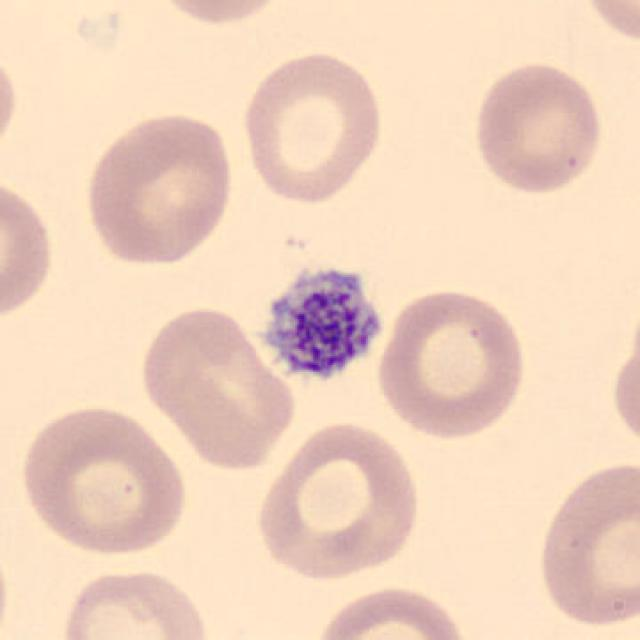Platelets: (254, 259, 388, 390)
RBC: (249, 418, 427, 583), (133, 300, 299, 474), (14, 400, 192, 559), (80, 106, 238, 270), (374, 282, 532, 443), (236, 46, 388, 206), (468, 56, 606, 198), (532, 453, 638, 633), (55, 564, 215, 640), (309, 582, 475, 640), (0, 171, 59, 328), (144, 0, 295, 28), (608, 333, 638, 460), (576, 0, 640, 46), (0, 39, 23, 166)
